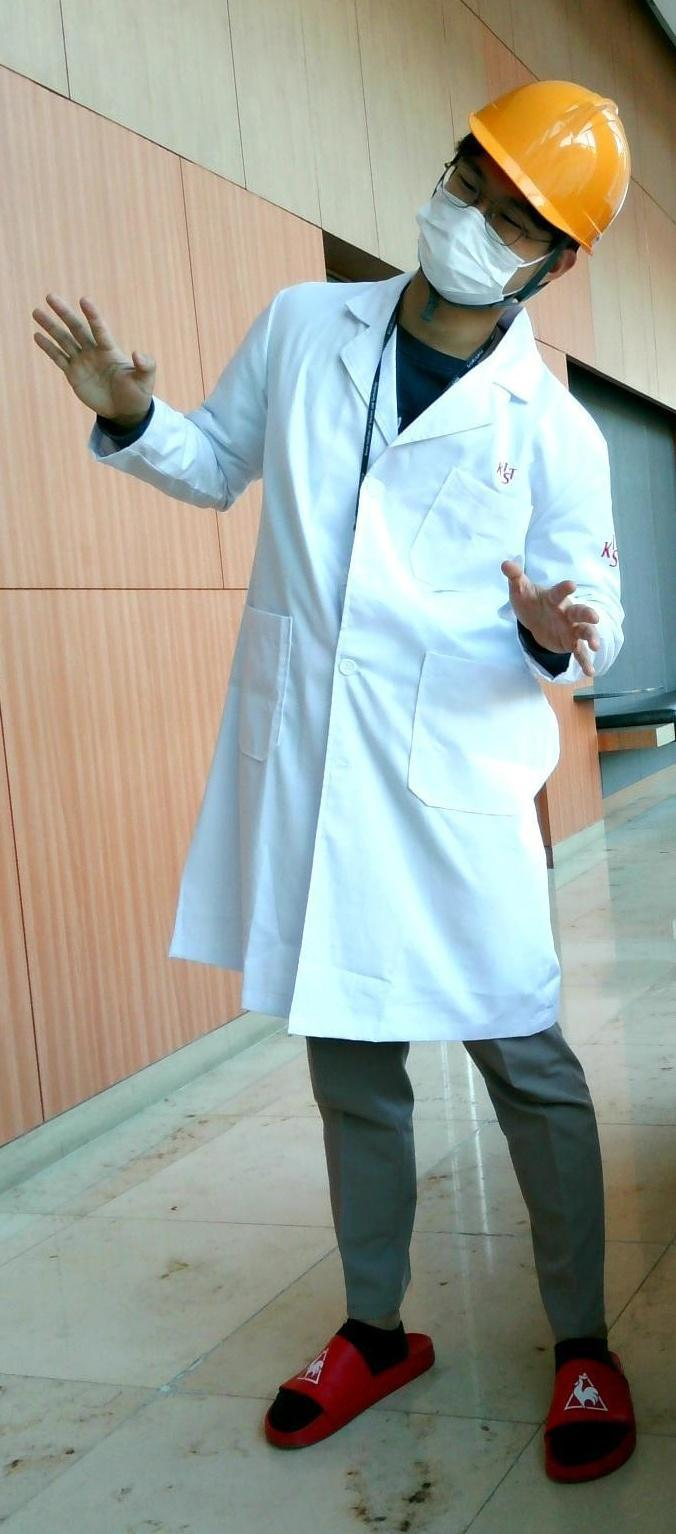lab_coat: (205, 287, 546, 1056)
